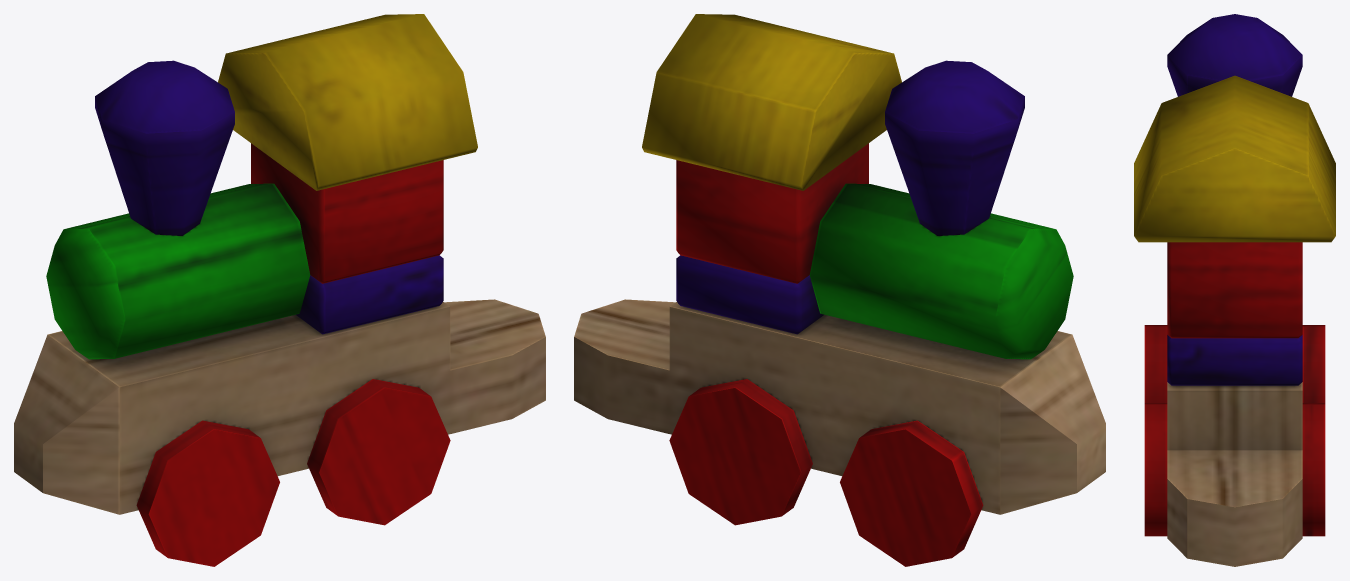
File: toy_train.FBX
3 views of the same model, side by side, from view 1: azimuth 30°, elevation 25°; view 2: azimuth 150°, elevation 25°; view 3: azimuth 270°, elevation 25° (orthographic). The views are drawn at different scales.
Parts seen in each view (by area): view 1: ToyTrain; view 2: ToyTrain; view 3: ToyTrain.
Part boxes in pixels (x1=…): ToyTrain: x1=14, y1=14, x2=545, y2=566; ToyTrain: x1=574, y1=14, x2=1105, y2=566; ToyTrain: x1=1134, y1=14, x2=1335, y2=566.
Size of the model in its own units: 73.29 by 62.78 by 26.84.
1 material, 1 textured.
